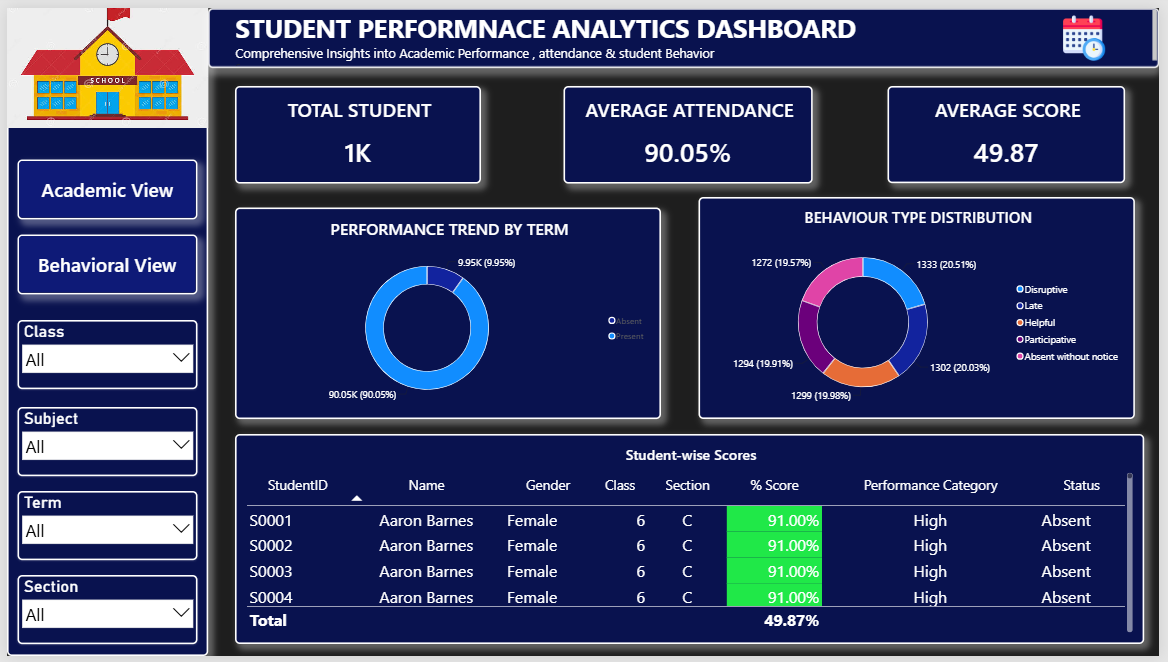

The page's visual inventory and layout, read from the dashboard file:
{"tool":"powerbi","page":{"name":"STUDENT PERFORMANCE","canvas":[1920,1080],"ordinal":0},"visuals":[{"type":"card","title":"TOTAL STUDENT","fields":{"Values":["Count(Scores.StudentID)"]},"box":[380,130,410,162.5],"z":0},{"type":"textbox","box":[0,0,335,1080],"z":1000},{"type":"slicer","fields":{"Values":["Students.Class"]},"box":[17.5,520.6,300,115],"z":2000},{"type":"slicer","fields":{"Values":["Scores.Subject"]},"box":[17.5,665.6,300,115],"z":3000},{"type":"slicer","fields":{"Values":["Scores.Term"]},"box":[17.5,805.6,300,115],"z":4000},{"type":"slicer","fields":{"Values":["Students.Section"]},"box":[17.5,945.6,300,115],"z":5000},{"type":"image","box":[0,0,335,200],"z":6000},{"type":"card","title":"AVERAGE ATTENDANCE","fields":{"Values":["MEASURE.Attendance %"]},"box":[927.5,130,415,162.5],"z":7000},{"type":"card","title":"AVERAGE SCORE","fields":{"Values":["MEASURE.Average Score per Subject"]},"box":[1467.5,130,396,162],"z":8000},{"type":"clusteredBarChart","fields":{"Category":["Scores.Subject"],"Y":["MEASURE.Average Score per Subject"]},"box":[380,312.5,742.5,375],"z":9000},{"type":"lineChart","title":"PERFORMANCE TREND BY TERM","fields":{"Category":["Scores.Term"],"Y":["MEASURE.Average Score per Subject"]},"box":[1152.5,312.5,742.5,372.5],"z":11000},{"type":"tableEx","title":"Student-wise Scores","fields":{"Values":["Attendance.StudentID","Students.Name","Students.Gender","Students.Class","Students.Section","MEASURE.% Score","Scores.Performance Category","Attendance.Status"]},"box":[380,710,1515,350],"z":12000},{"type":"textbox","box":[335,0,1585,100],"z":13000},{"type":"actionButton","title":"Academic View","box":[17.5,252.5,300,100],"z":15000},{"type":"actionButton","title":"Academic View","box":[17.5,377.5,300,100],"z":16000},{"type":"image","box":[1727.5,12.5,135,75],"z":16001}]}

Visuals, with their boxes in screenshot pixels (x1, y1, x2, y2), scaled from the page's 1920x1080 canvas onto the 1168x662 screenshot:
"TOTAL STUDENT" card: {"left": 231, "top": 80, "right": 481, "bottom": 179}
textbox: {"left": 0, "top": 0, "right": 204, "bottom": 661}
slicer - Students.Class: {"left": 11, "top": 319, "right": 193, "bottom": 390}
slicer - Scores.Subject: {"left": 11, "top": 408, "right": 193, "bottom": 478}
slicer - Scores.Term: {"left": 11, "top": 494, "right": 193, "bottom": 564}
slicer - Students.Section: {"left": 11, "top": 580, "right": 193, "bottom": 650}
image: {"left": 0, "top": 0, "right": 204, "bottom": 123}
"AVERAGE ATTENDANCE" card: {"left": 564, "top": 80, "right": 817, "bottom": 179}
"AVERAGE SCORE" card: {"left": 893, "top": 80, "right": 1134, "bottom": 179}
clusteredBarChart - Scores.Subject x MEASURE.Average Score per Subject: {"left": 231, "top": 192, "right": 683, "bottom": 421}
"PERFORMANCE TREND BY TERM" lineChart: {"left": 701, "top": 192, "right": 1153, "bottom": 420}
"Student-wise Scores" tableEx: {"left": 231, "top": 435, "right": 1153, "bottom": 650}
textbox: {"left": 204, "top": 0, "right": 1167, "bottom": 61}
"Academic View" actionButton: {"left": 11, "top": 155, "right": 193, "bottom": 216}
"Academic View" actionButton: {"left": 11, "top": 231, "right": 193, "bottom": 293}
image: {"left": 1051, "top": 8, "right": 1133, "bottom": 54}
